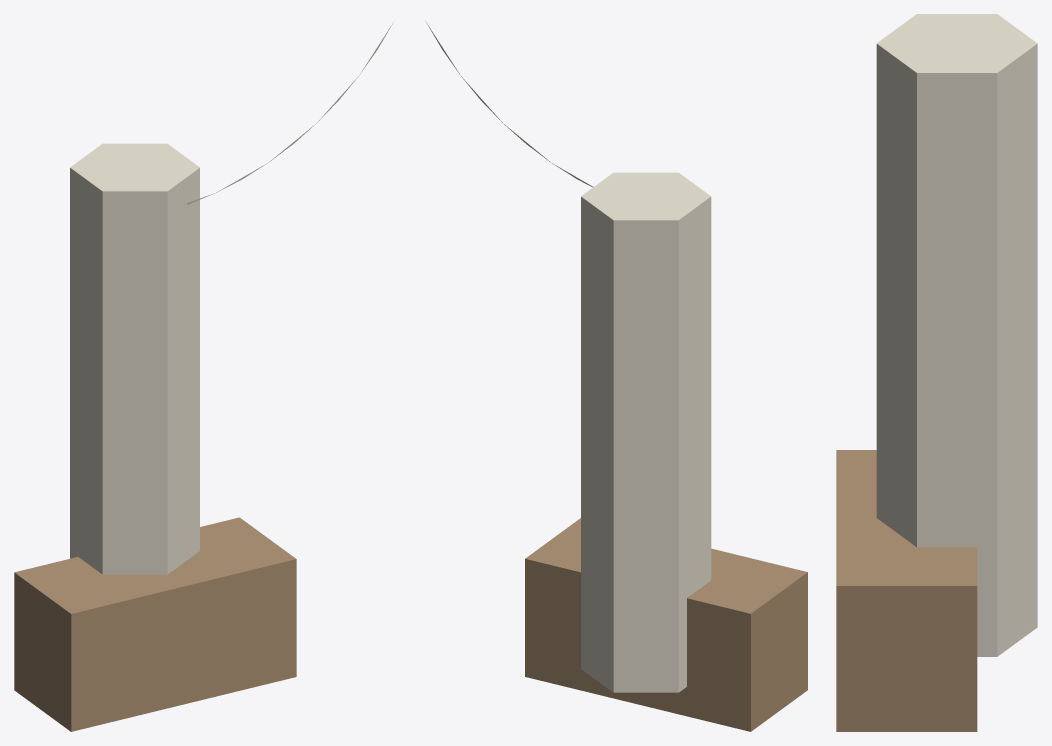
File: sickle.glb
The picture shows the model from 3 angles, left to right: view 1: azimuth 30°, elevation 25°; view 2: azimuth 150°, elevation 25°; view 3: azimuth 270°, elevation 25°; orthographic projection. The views are drawn at different scales.
Parts seen in each view (by area): view 1: part0, part6; view 2: part0, part6; view 3: part0, part6.
Boxes of the visible parts, x1=… form: part0: x1=70, y1=143, x2=199, y2=574; part6: x1=14, y1=517, x2=296, y2=731; part0: x1=581, y1=172, x2=711, y2=692; part6: x1=525, y1=518, x2=807, y2=731; part0: x1=876, y1=14, x2=1037, y2=656; part6: x1=836, y1=450, x2=977, y2=731.
Bounding box in the file's own units: 0.2489 × 0.4128 × 0.1.
